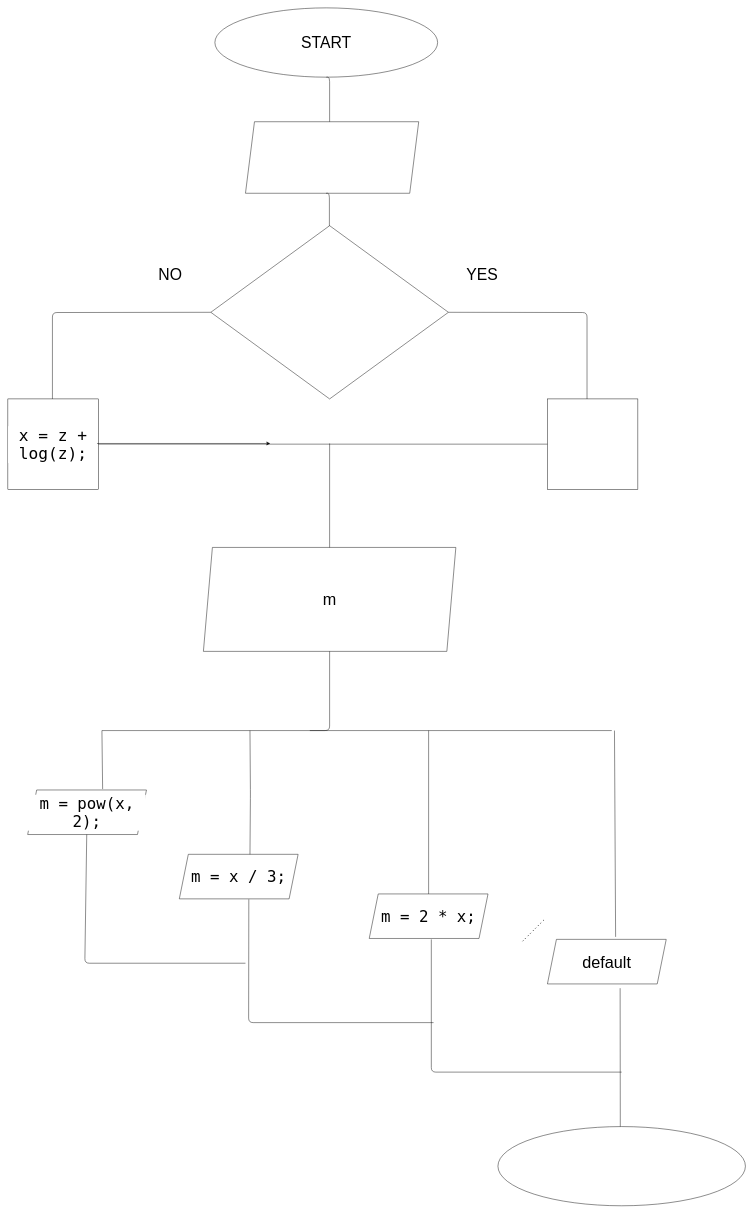
This 753x1214 diagram has some shape labels left out. Each missing label, with the centre of its shape:
cin>>x>>a>>z>>b>>m: [332,157]
FINISH: [621,1166]
IF(Z<1): [329,312]
x = pow (z, 3 )+ 0.2 ;: [592,443]
